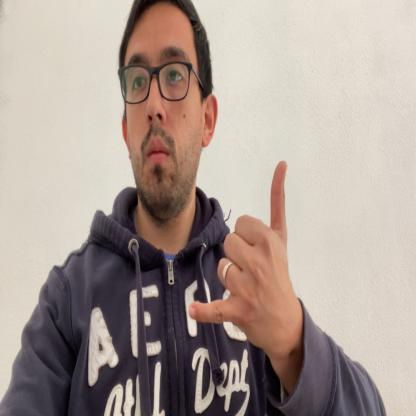Y: (188, 160, 298, 352)
